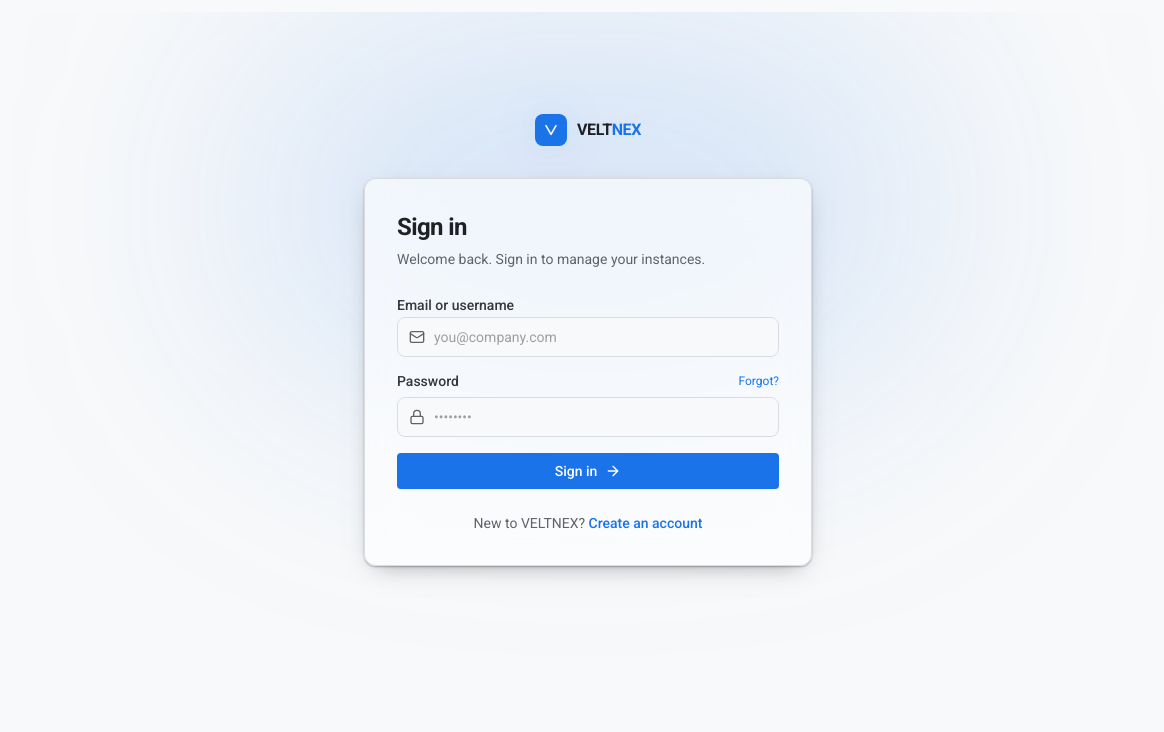
Test: Immediate first-login onboarding › opens setup immediately for a pending account {"must_change_password":true,"must_verify_phone":true}
This screenshot has width=1164, height=732.
Type "teammate@example.com" into the field labelled "Email or username" at (588, 337), box x1=397 y1=317 x2=779 y2=357
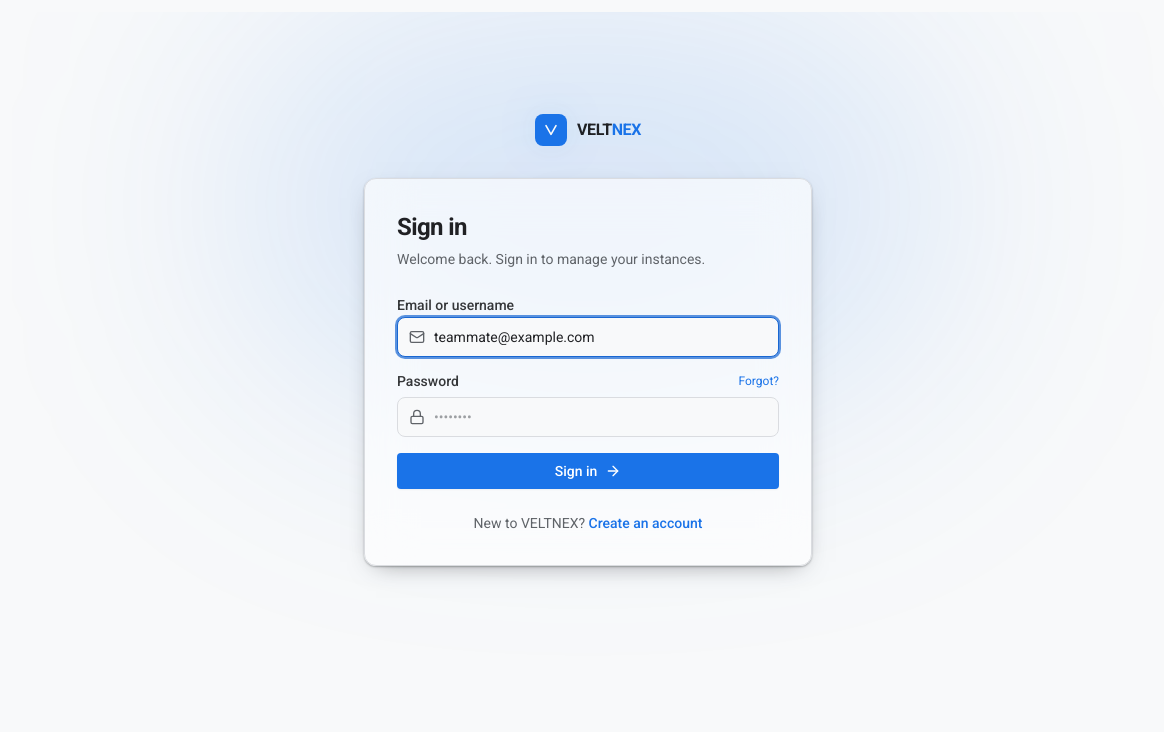
Type "TemporaryPassword123!" into the password field labelled "Password" at (588, 417), box x1=397 y1=397 x2=779 y2=437
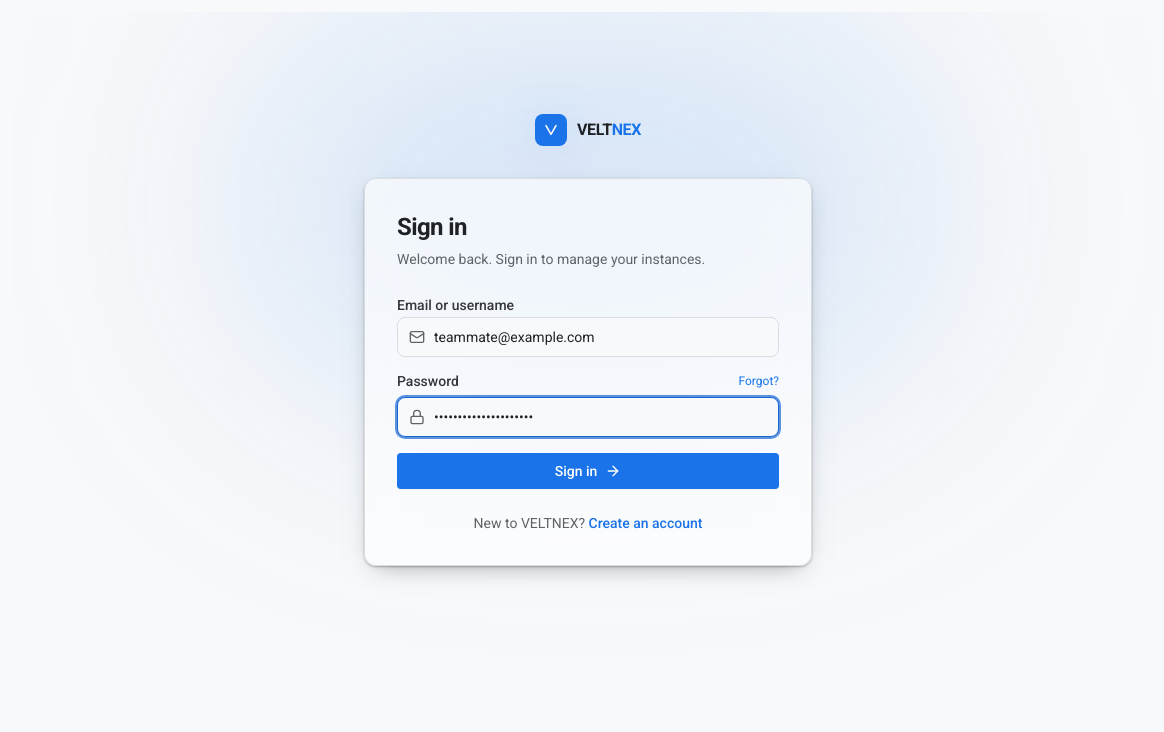
Click the button "Sign in" at (588, 471), box x1=397 y1=453 x2=779 y2=489
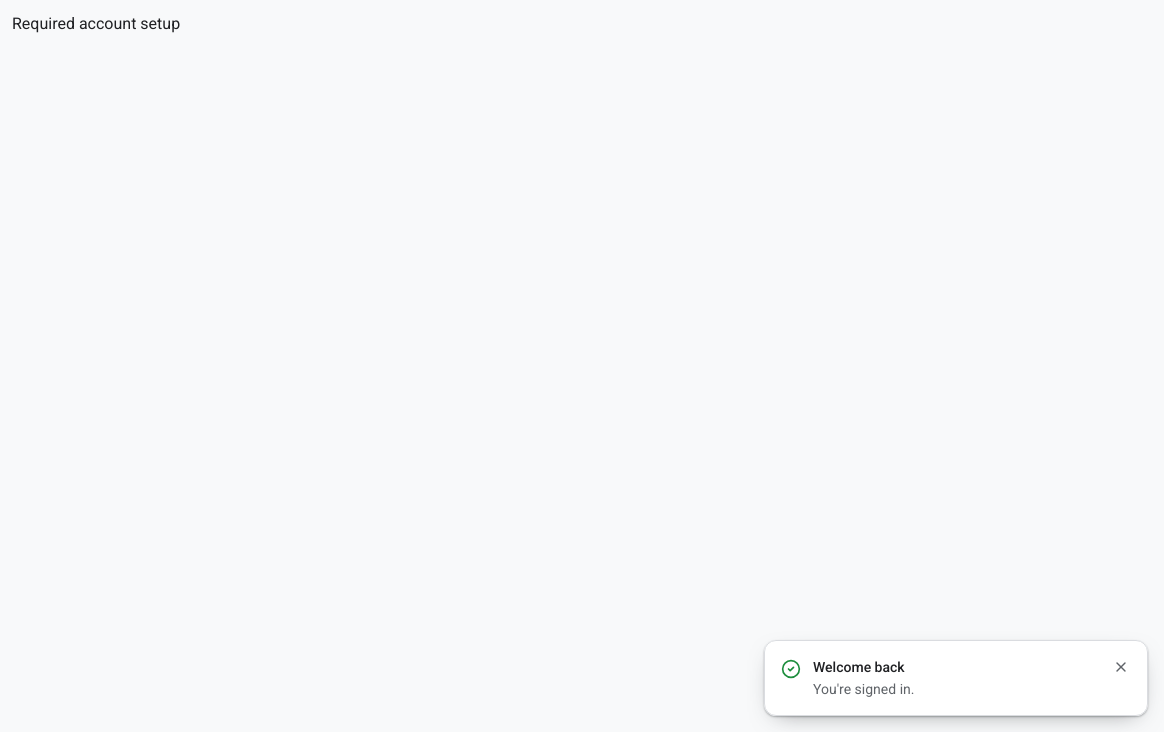
Expected: the heading "Required account setup" is shown, x1=12 y1=14 x2=180 y2=33
